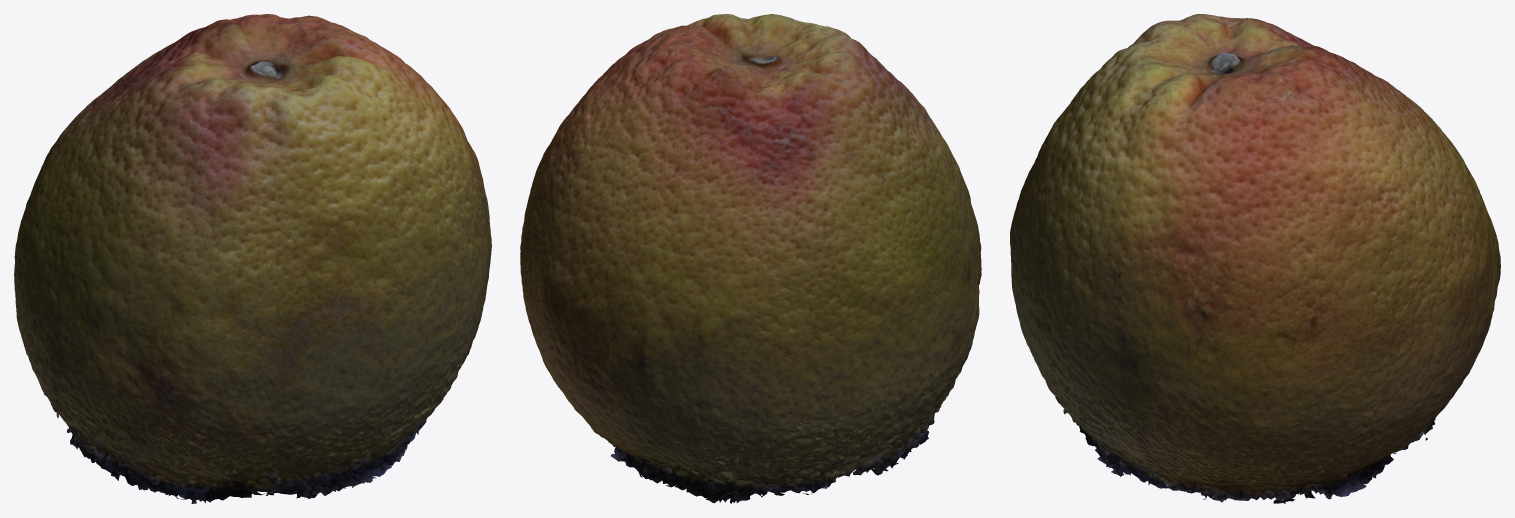
File: toronjamodelo.glb
3 renders of one model, left to right at view 1: azimuth 30°, elevation 25°; view 2: azimuth 150°, elevation 25°; view 3: azimuth 270°, elevation 25°, orthographic. The views are drawn at different scales.
Size of the model in its own units: 9.4 by 8.8 by 9.57.
1 material, 1 textured.
